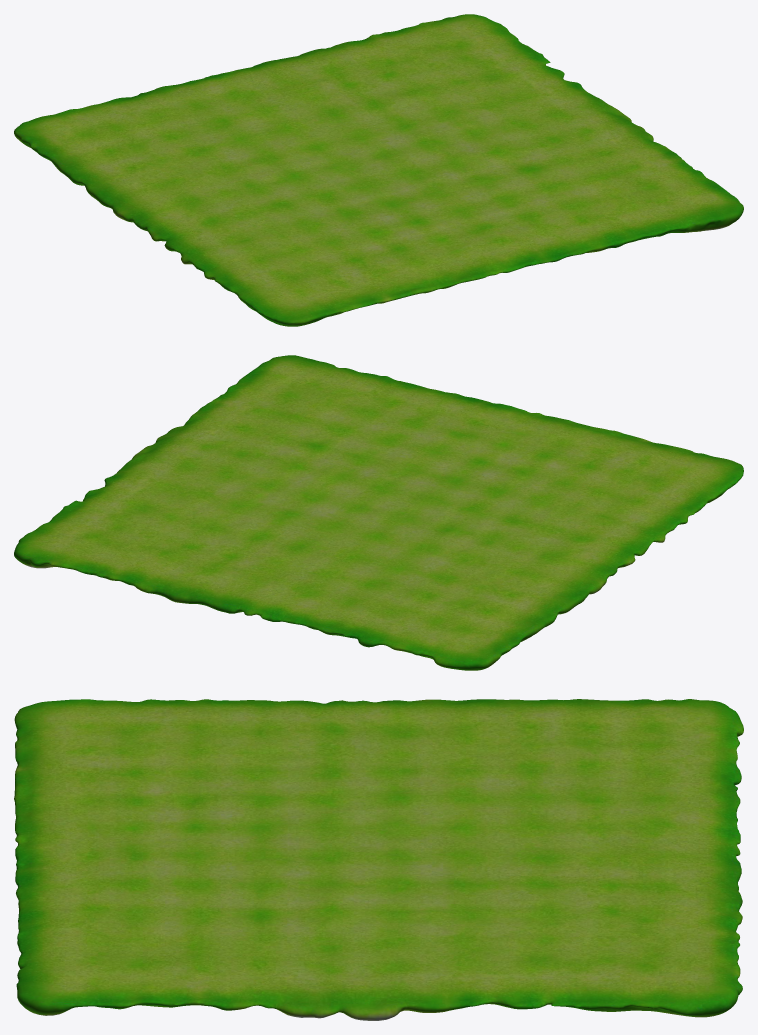
The model's file is FloorTile.fbx.
The picture shows the model from 3 angles, top to bottom: view 1: azimuth 30°, elevation 25°; view 2: azimuth 150°, elevation 25°; view 3: azimuth 270°, elevation 25°; orthographic projection. The views are drawn at different scales.
Visible parts, largest first — view 1: high_poly; view 2: high_poly; view 3: high_poly.
Boxes of the visible parts, <box> form: high_poly: <box>14,14,743,326</box>; high_poly: <box>14,355,743,670</box>; high_poly: <box>14,699,743,1020</box>.
Bounding box in the file's own units: 100 × 4.41 × 99.19.
